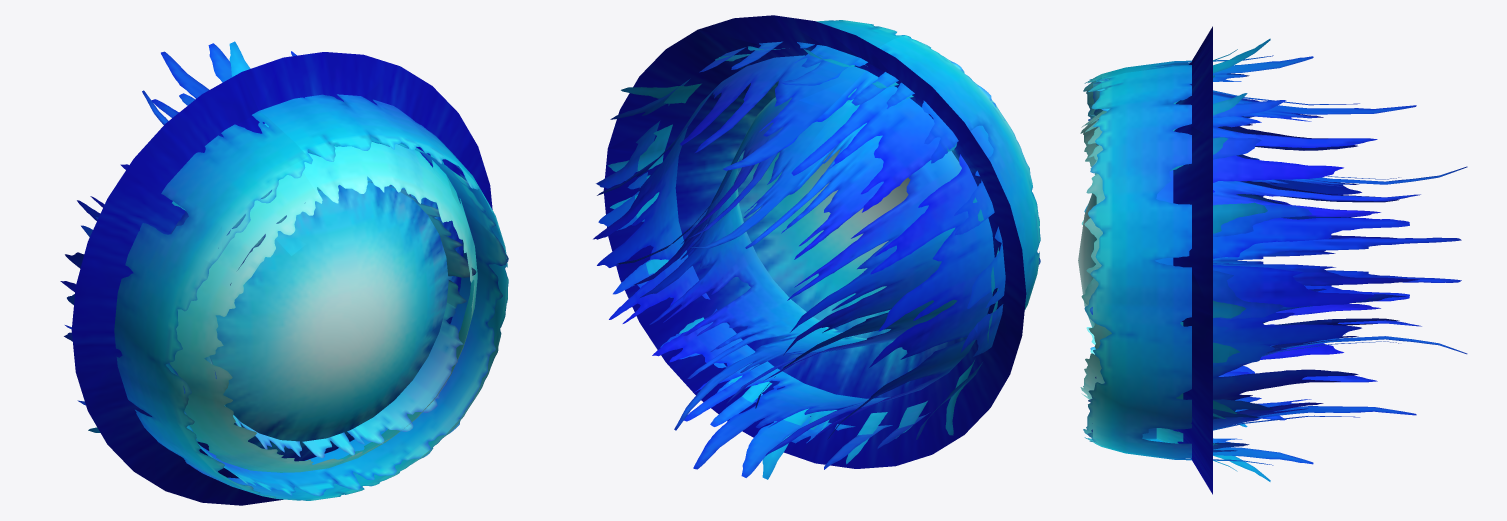
Rendered from SKADOOSH.FBX.
3 views of the same model, side by side, from view 1: azimuth 30°, elevation 25°; view 2: azimuth 150°, elevation 25°; view 3: azimuth 270°, elevation 25° (orthographic). The views are drawn at different scales.
Visible parts, largest first — view 1: epm_ch_sng_yh1_boost_1, epm_ch_sng_yh1_boost_3, epm_ch_sng_yh1_boost_2, epm_ch_sng_yh1_boost_4, epm_ch_sng_yh1_boost_5; view 2: epm_ch_sng_yh1_boost_1, epm_ch_sng_yh1_boost_4, epm_ch_sng_yh1_boost_5, epm_ch_sng_yh1_boost_3, epm_ch_sng_yh1_boost_2; view 3: epm_ch_sng_yh1_boost_3, epm_ch_sng_yh1_boost_4, epm_ch_sng_yh1_boost_1, epm_ch_sng_yh1_boost_5, epm_ch_sng_yh1_boost_2.
Boxes of the visible parts, left/top/right/bottom form: epm_ch_sng_yh1_boost_1: left=71, top=52, right=492, bottom=505; epm_ch_sng_yh1_boost_3: left=64, top=43, right=508, bottom=500; epm_ch_sng_yh1_boost_2: left=88, top=41, right=477, bottom=472; epm_ch_sng_yh1_boost_4: left=60, top=51, right=508, bottom=496; epm_ch_sng_yh1_boost_5: left=142, top=90, right=476, bottom=458; epm_ch_sng_yh1_boost_1: left=603, top=15, right=1026, bottom=468; epm_ch_sng_yh1_boost_4: left=593, top=55, right=1040, bottom=469; epm_ch_sng_yh1_boost_5: left=616, top=88, right=961, bottom=430; epm_ch_sng_yh1_boost_3: left=596, top=20, right=1040, bottom=477; epm_ch_sng_yh1_boost_2: left=607, top=46, right=998, bottom=479; epm_ch_sng_yh1_boost_3: left=1083, top=55, right=1313, bottom=465; epm_ch_sng_yh1_boost_4: left=1087, top=79, right=1416, bottom=441; epm_ch_sng_yh1_boost_1: left=1078, top=26, right=1212, bottom=494; epm_ch_sng_yh1_boost_5: left=1088, top=114, right=1467, bottom=401; epm_ch_sng_yh1_boost_2: left=1080, top=38, right=1270, bottom=481.
Size of the model in its own units: 0.0383 by 0.0383 by 0.0322.
